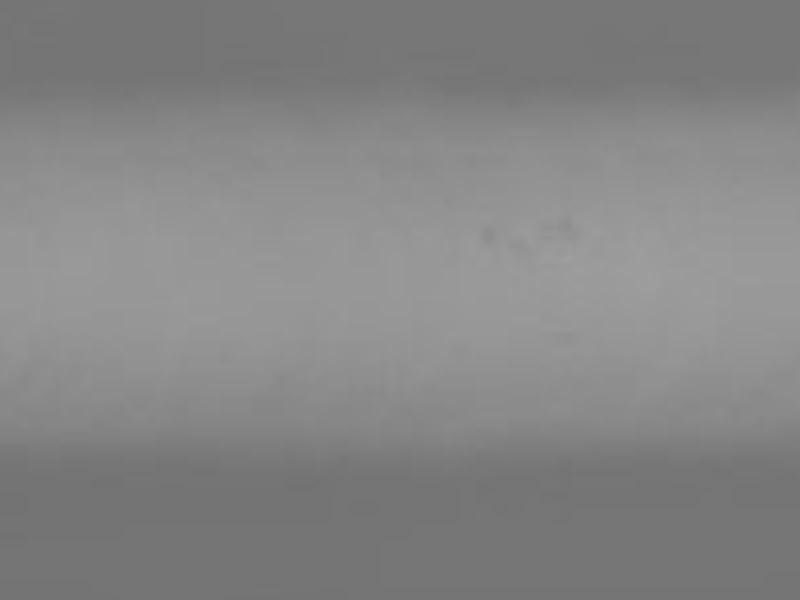defect: (532, 214, 584, 245), (504, 232, 536, 261), (475, 218, 498, 248)
